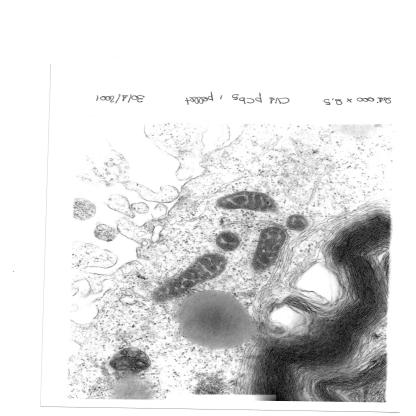mitochondria: (153, 252, 229, 305), (248, 224, 289, 274), (215, 190, 280, 214), (215, 231, 242, 254), (286, 213, 308, 232)
